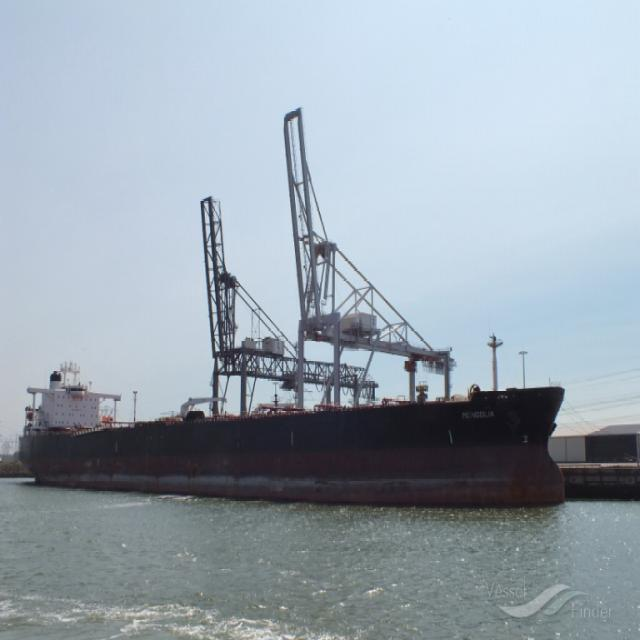Oil Tanker: (16, 362, 565, 507)
